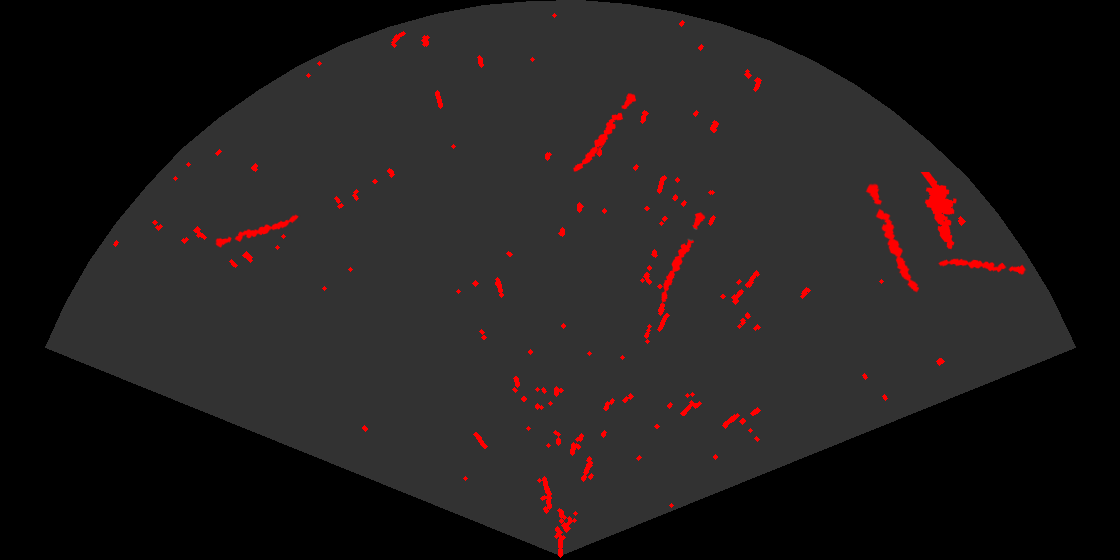chain: (864, 181, 921, 294), (572, 91, 638, 173), (660, 211, 707, 304), (213, 213, 301, 249), (937, 257, 1028, 276)
frogman: (919, 172, 958, 251)
